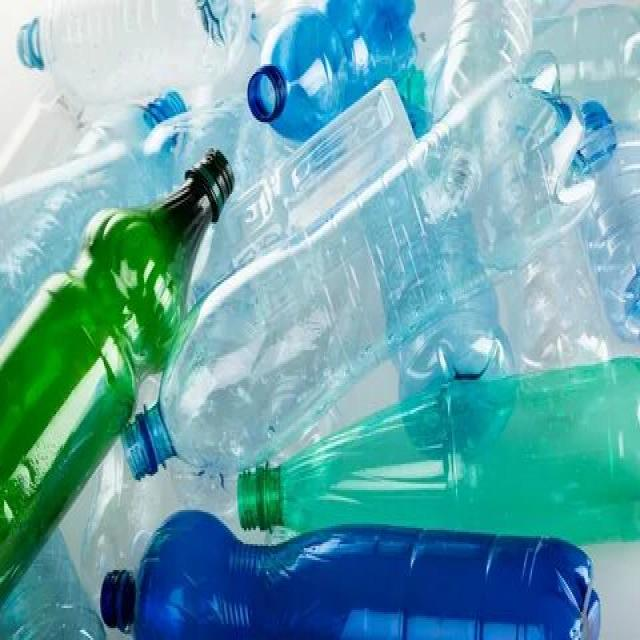blue: (121, 46, 598, 476), (2, 90, 188, 330)
green: (2, 148, 234, 604)
